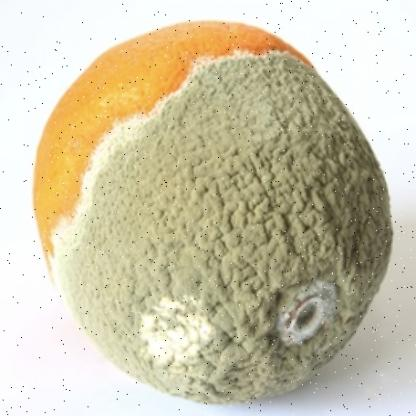rotten: (34, 21, 395, 399)
